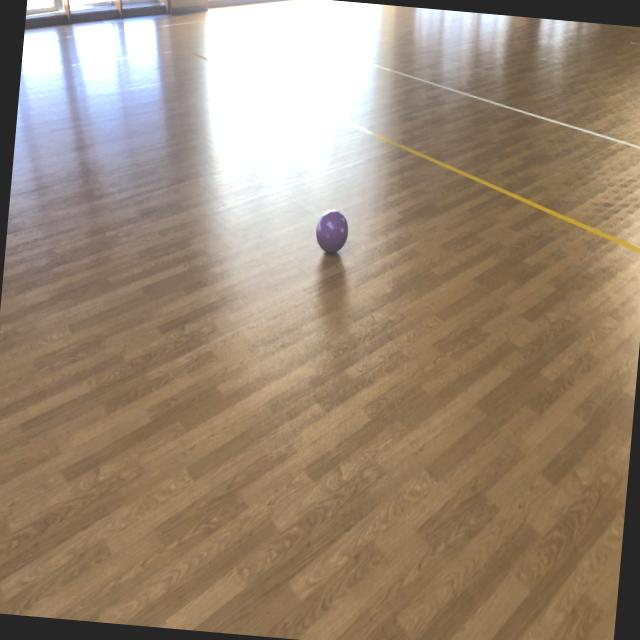purple_ball: (314, 209, 351, 252)
